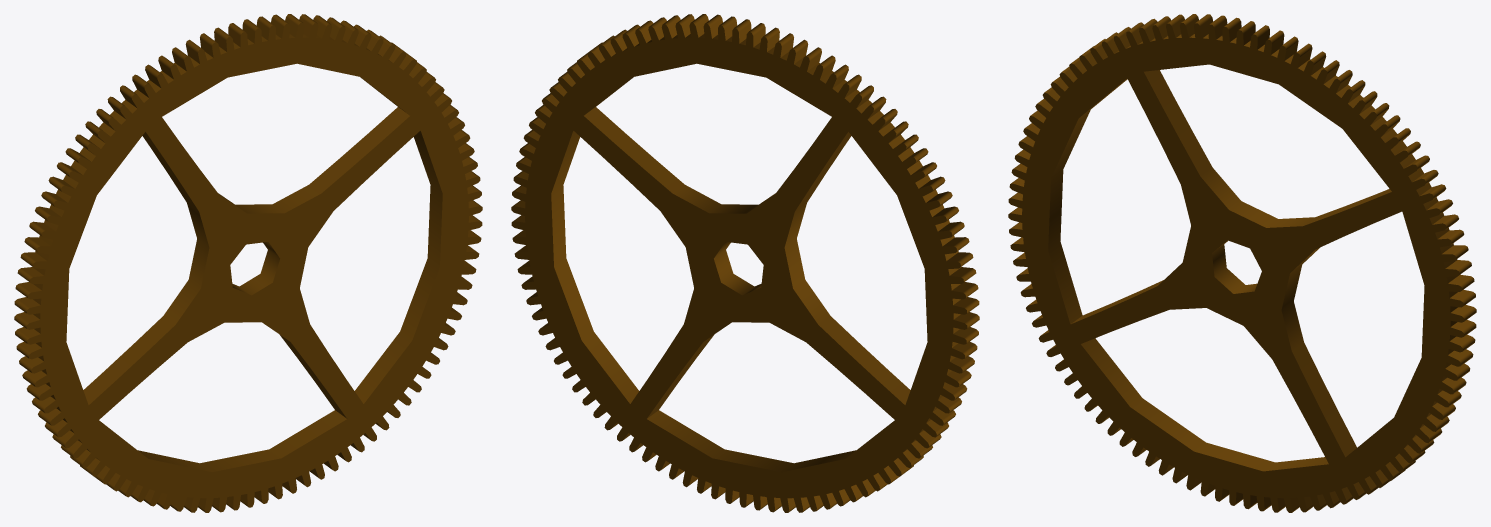
File: Roue dente_Roue etoile Quarts.obj
3 views of the same model, side by side, from view 1: azimuth 30°, elevation 25°; view 2: azimuth 150°, elevation 25°; view 3: azimuth 330°, elevation 25° (orthographic).
Visible parts, largest first — view 1: Face_1, Face_402, Face_406, Face_397, Face_407, Face_408, Face_396, Face_411; view 2: Face_2, Face_402, Face_406, Face_397, Face_407, Face_408, Face_396, Face_411; view 3: Face_1, Face_406, Face_410, Face_401, Face_395, Face_396, Face_400, Face_411.
Boxes of the visible parts, x1=… form: Face_1: x1=26, y1=23, x2=482, y2=512; Face_402: x1=355, y1=131, x2=442, y2=403; Face_406: x1=138, y1=410, x2=346, y2=472; Face_397: x1=309, y1=107, x2=409, y2=193; Face_407: x1=83, y1=316, x2=175, y2=404; Face_408: x1=163, y1=203, x2=209, y2=324; Face_396: x1=218, y1=185, x2=320, y2=213; Face_411: x1=232, y1=242, x2=279, y2=295; Face_2: x1=511, y1=23, x2=967, y2=512; Face_402: x1=551, y1=131, x2=638, y2=403; Face_406: x1=647, y1=410, x2=855, y2=472; Face_397: x1=584, y1=107, x2=684, y2=193; Face_407: x1=818, y1=316, x2=910, y2=404; Face_408: x1=784, y1=203, x2=830, y2=324; Face_396: x1=673, y1=185, x2=775, y2=213; Face_411: x1=714, y1=242, x2=761, y2=295; Face_1: x1=1008, y1=23, x2=1464, y2=512; Face_406: x1=1081, y1=338, x2=1328, y2=471; Face_410: x1=1048, y1=79, x2=1127, y2=324; Face_401: x1=1292, y1=342, x2=1357, y2=457; Face_395: x1=1144, y1=70, x2=1212, y2=176; Face_396: x1=1200, y1=167, x2=1314, y2=227; Face_400: x1=1281, y1=247, x2=1319, y2=350; Face_411: x1=1212, y1=240, x2=1256, y2=293.
Bounding box in the file's own units: 0.0708 × 0.0708 × 0.0033.
